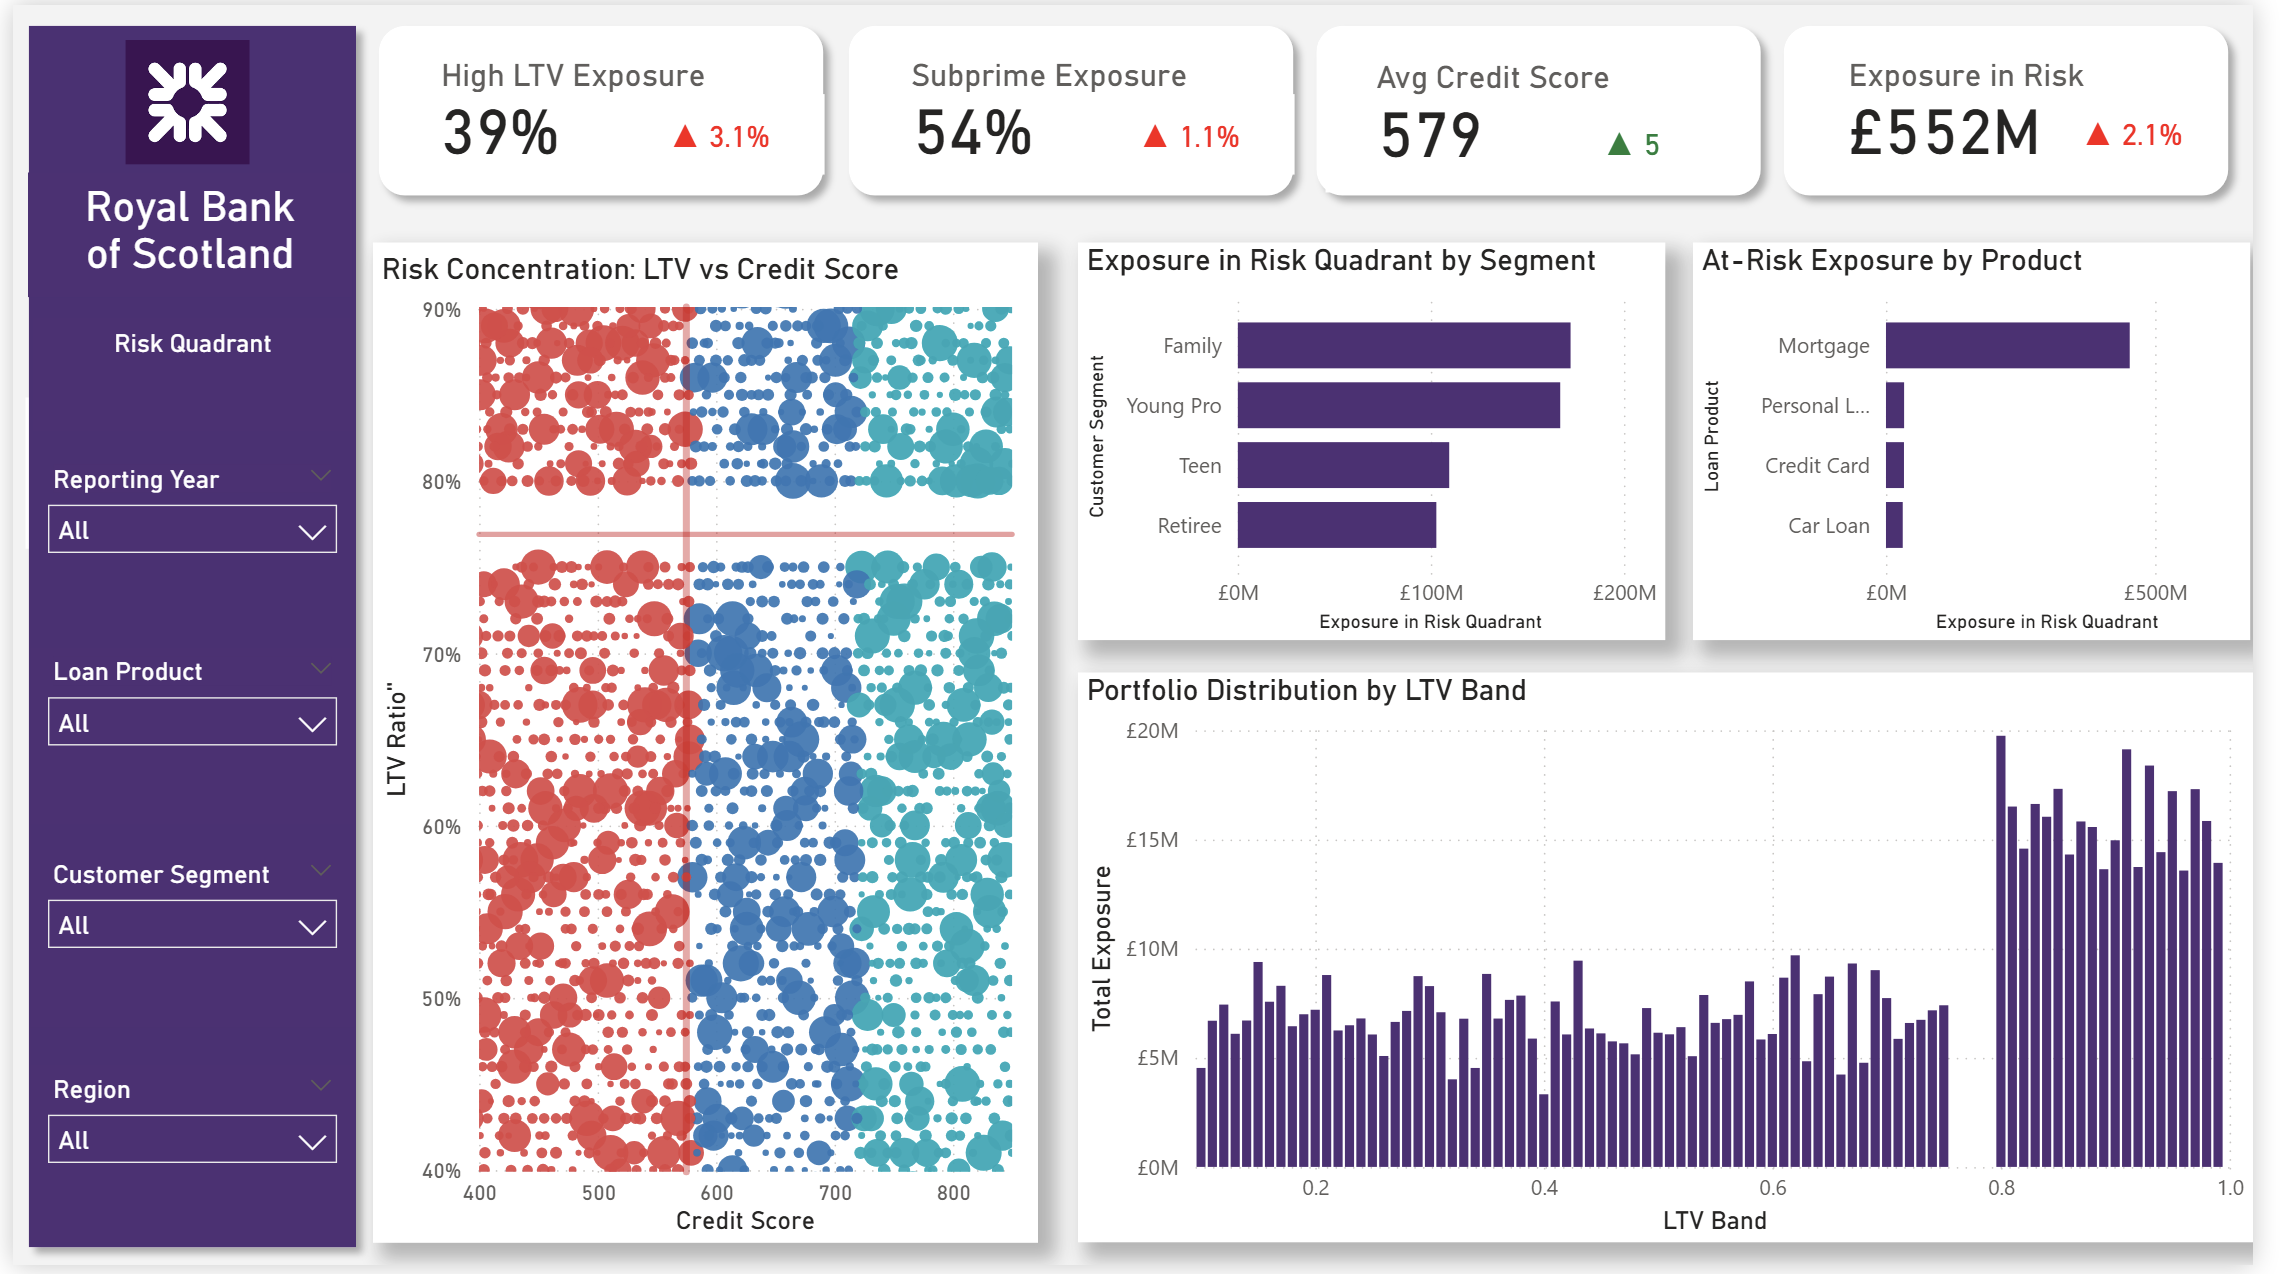

The dashboard page shown, as its layout file describes it:
{"tool":"powerbi","page":{"name":" Risk Quadrant","canvas":[1280,720],"ordinal":1},"visuals":[{"type":"slicer","fields":{"Values":["Dim_Calendar_Lookup.Year"]},"box":[7,223.6,149.7,86.3],"z":0},{"type":"slicer","fields":{"Values":["Risk Focus.Risk View"]},"box":[24.6,49.3,149.7,86.3],"z":1000},{"type":"shape","box":[0,3,205,716],"z":2000},{"type":"textbox","box":[12,178,183,65],"z":3000},{"type":"image","box":[6.8,20.3,185,71],"z":4000},{"type":"textbox","box":[9,95,185,71.2],"z":5000},{"type":"shape","box":[200,3,272,115],"z":6000},{"type":"shape","box":[469,3,272,115],"z":7000},{"type":"shape","box":[736,3,272,115],"z":8000},{"type":"shape","box":[1003,3,272,115],"z":9000},{"type":"cardVisual","fields":{"Data":["Fct_Credit_Exposure_Audit.High LTV Exposure %"]},"box":[216,16,238,90],"z":10000},{"type":"cardVisual","fields":{"Data":["Fct_Credit_Exposure_Audit.High LTV Trend Icon"]},"box":[338,45.8,130,56],"z":11000},{"type":"cardVisual","fields":{"Data":["Fct_Credit_Exposure_Audit.Subprime Exposure %"]},"box":[484,16,238,90],"z":12000},{"type":"cardVisual","fields":{"Data":["Fct_Credit_Exposure_Audit.Weighted Avg Credit Score"]},"box":[750,16.9,238,90],"z":13000},{"type":"cardVisual","fields":{"Data":["Fct_Credit_Exposure_Audit.Exposure in Risk Quadrant"]},"box":[1020,15,238,90],"z":14000},{"type":"cardVisual","fields":{"Data":["Fct_Credit_Exposure_Audit.Subprime Trend Icon"]},"box":[607,45.8,130,56],"z":15000},{"type":"cardVisual","fields":{"Data":["Fct_Credit_Exposure_Audit.Score Trend Icon"]},"box":[860,50,130,56.7],"z":16000},{"type":"cardVisual","fields":{"Data":["Fct_Credit_Exposure_Audit.Risk Exposure Trend Icon"]},"box":[1153.3,45,116,56],"z":17000},{"type":"slicer","fields":{"Values":["Dim_Product_Catalogue.Loan_type"]},"box":[10,367.8,185,101],"z":18000},{"type":"slicer","fields":{"Values":["Dim_Calendar_Lookup.Year"]},"box":[10,257.6,185,101],"z":19000},{"type":"slicer","fields":{"Values":["Dim_Customer_Registry.Segment"]},"box":[10,483,185,101.7],"z":20000},{"type":"slicer","fields":{"Values":["Dim_Customer_Registry.Region"]},"box":[10,605.1,185,101.7],"z":21000},{"type":"scatterChart","title":"Risk Concentration: LTV vs Credit Score","fields":{"X":["Avg(Fct_Credit_Exposure_Audit.Credit_Score)"],"Y":["Avg(Fct_Credit_Exposure_Audit.LTV_Ratio)"],"Category":["Fct_Credit_Exposure_Audit.Customer_ID"],"Size":["Avg(Fct_Credit_Exposure_Audit.Loan_Balance)"]},"box":[220,150,350,556.7],"z":22000},{"type":"barChart","fields":{"Y":["Fct_Credit_Exposure_Audit.Exposure in Risk Quadrant"],"Category":["Dim_Customer_Registry.Segment"]},"box":[609,150,319,213],"z":23000},{"type":"barChart","title":"At-Risk Exposure by Product","fields":{"Y":["Fct_Credit_Exposure_Audit.Exposure in Risk Quadrant"],"Category":["Dim_Product_Catalogue.Loan_type"]},"box":[960,150,319.5,213],"z":24000},{"type":"clusteredColumnChart","title":"Portfolio Distribution by LTV Band","fields":{"Category":["Fct_Credit_Exposure_Audit.LTV_Ratio (bins)"],"Y":["Fct_Credit_Exposure_Audit.Total Exposure"]},"box":[609,390,670.5,316.5],"z":25000}]}

Visuals, with their boxes in screenshot pixels (x1, y1, x2, y2), scaled from the page's 1280x720 canvas onto the 2286x1274 screenshot:
slicer - Dim_Calendar_Lookup.Year: [13, 396, 280, 548]
slicer - Risk Focus.Risk View: [44, 87, 311, 240]
shape: [0, 5, 366, 1272]
textbox: [21, 315, 348, 430]
image: [12, 36, 343, 162]
textbox: [16, 168, 346, 294]
shape: [357, 5, 843, 209]
shape: [838, 5, 1323, 209]
shape: [1314, 5, 1800, 209]
shape: [1791, 5, 2277, 209]
cardVisual - Fct_Credit_Exposure_Audit.High LTV Exposure %: [386, 28, 811, 188]
cardVisual - Fct_Credit_Exposure_Audit.High LTV Trend Icon: [604, 81, 836, 180]
cardVisual - Fct_Credit_Exposure_Audit.Subprime Exposure %: [864, 28, 1289, 188]
cardVisual - Fct_Credit_Exposure_Audit.Weighted Avg Credit Score: [1339, 30, 1765, 189]
cardVisual - Fct_Credit_Exposure_Audit.Exposure in Risk Quadrant: [1822, 27, 2247, 186]
cardVisual - Fct_Credit_Exposure_Audit.Subprime Trend Icon: [1084, 81, 1316, 180]
cardVisual - Fct_Credit_Exposure_Audit.Score Trend Icon: [1536, 88, 1768, 189]
cardVisual - Fct_Credit_Exposure_Audit.Risk Exposure Trend Icon: [2060, 80, 2267, 179]
slicer - Dim_Product_Catalogue.Loan_type: [18, 651, 348, 830]
slicer - Dim_Calendar_Lookup.Year: [18, 456, 348, 635]
slicer - Dim_Customer_Registry.Segment: [18, 855, 348, 1035]
slicer - Dim_Customer_Registry.Region: [18, 1071, 348, 1251]
"Risk Concentration: LTV vs Credit Score" scatterChart: [393, 265, 1018, 1250]
barChart - Fct_Credit_Exposure_Audit.Exposure in Risk Quadrant x Dim_Customer_Registry.Segment: [1088, 265, 1657, 642]
"At-Risk Exposure by Product" barChart: [1714, 265, 2285, 642]
"Portfolio Distribution by LTV Band" clusteredColumnChart: [1088, 690, 2285, 1250]
